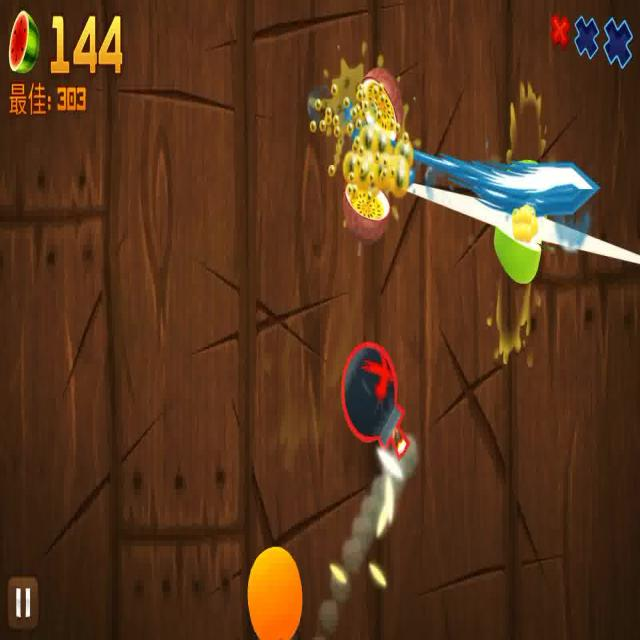bomb: (338, 342, 412, 459)
fruit: (248, 547, 304, 640), (493, 204, 543, 281), (360, 68, 403, 146), (343, 179, 389, 238)
